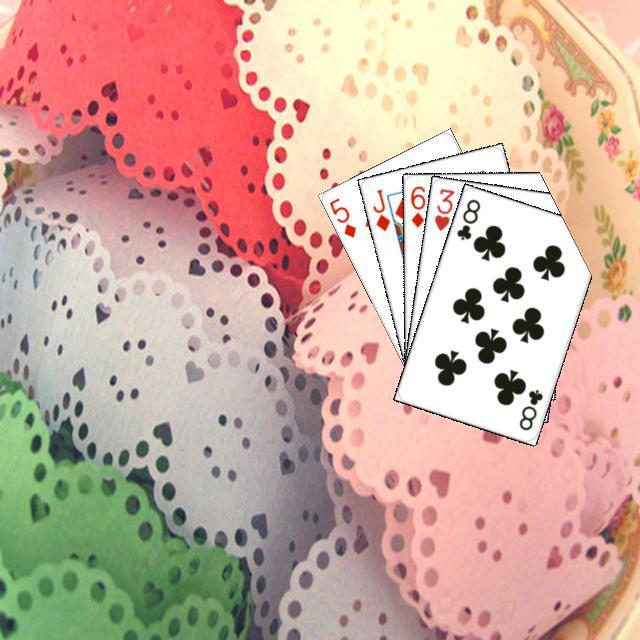3h: (430, 183, 456, 233)
5d: (324, 193, 358, 239)
6d: (406, 181, 427, 229)
8c: (514, 384, 545, 432), (452, 194, 482, 242)
Jd: (368, 184, 392, 233)
